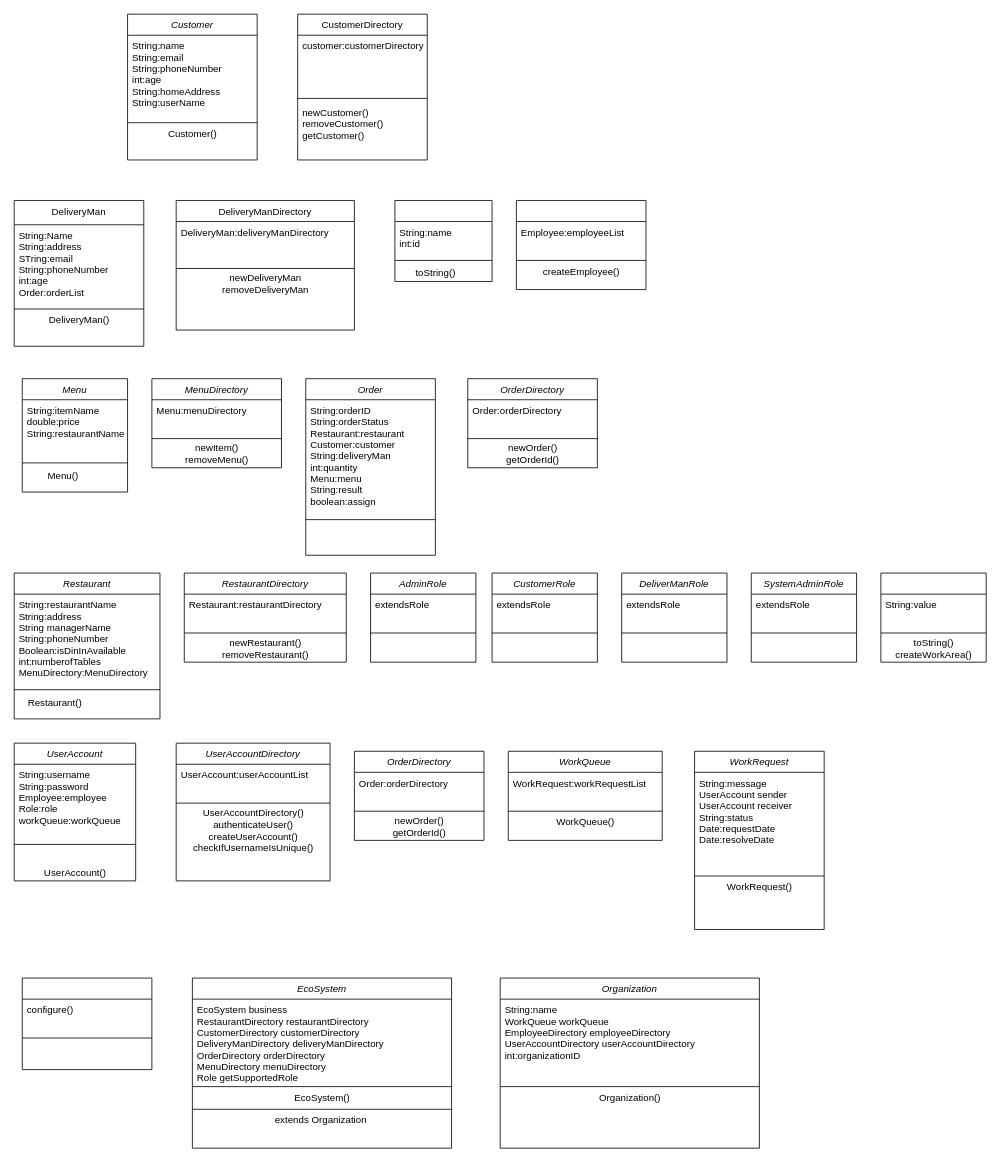
Image size: 1000x1162. Some labels were removed from this diagram. Here are the shapes that lost their labels. From the top down, the box of each, then its label:
(394, 200, 492, 281): Employee
(516, 200, 646, 290): EmployeeDirectory
(880, 572, 986, 662): Role
(21, 977, 152, 1070): ConfigureASystem
